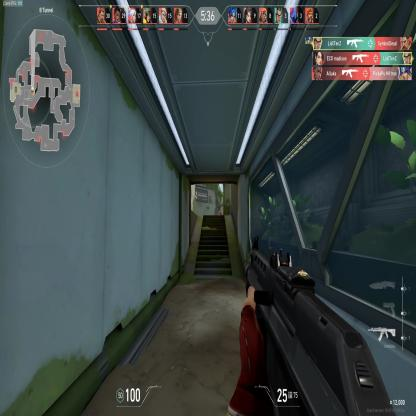enemy: (219, 210, 223, 216)
